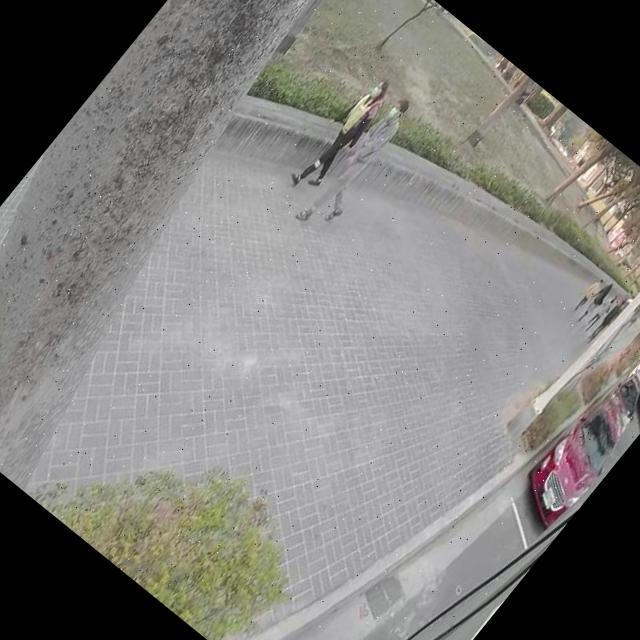person: (298, 93, 422, 235), (284, 70, 395, 198), (586, 296, 627, 344), (576, 278, 615, 324), (583, 292, 619, 332), (572, 275, 606, 313)
